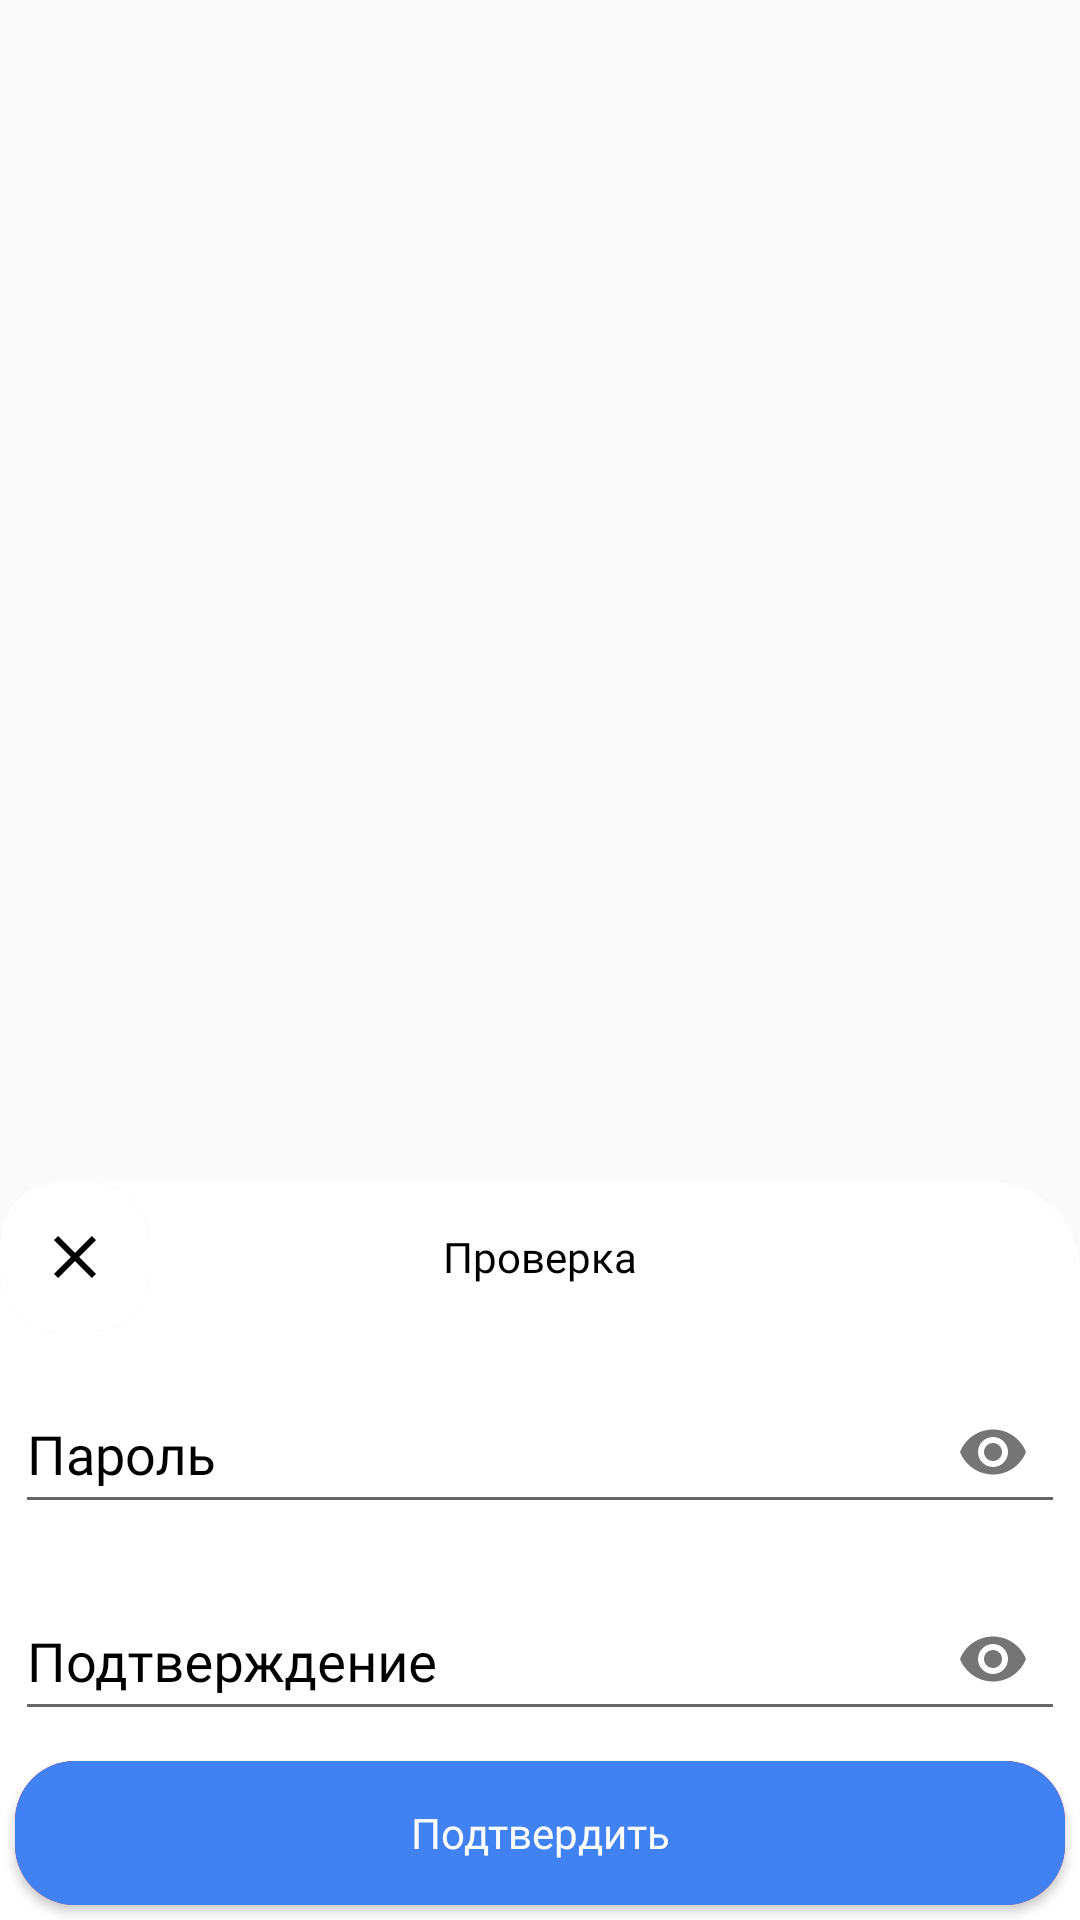

Where to tap for icons on this 1080 × 1920 app screen, as (x=x, y=y):
Закрыть: (x=75, y=1257)
